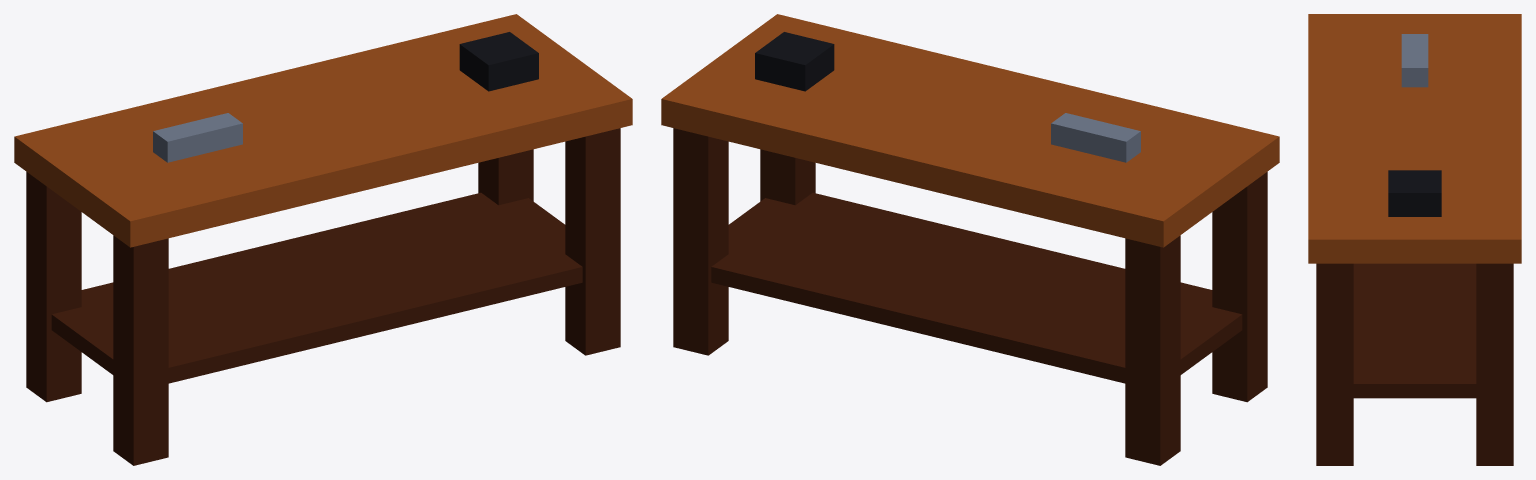
Rendered from workbench.obj.
3 views of the same model, side by side, from view 1: azimuth 30°, elevation 25°; view 2: azimuth 150°, elevation 25°; view 3: azimuth 270°, elevation 25° (orthographic). The views are drawn at different scales.
Visible parts, largest first — view 1: workbench; view 2: workbench; view 3: workbench.
Boxes of the visible parts, left/top/right/bottom form: workbench: left=14, top=14, right=632, bottom=465; workbench: left=661, top=14, right=1279, bottom=465; workbench: left=1308, top=14, right=1521, bottom=465.
Size of the model in its own units: 2 by 1.05 by 0.8.
